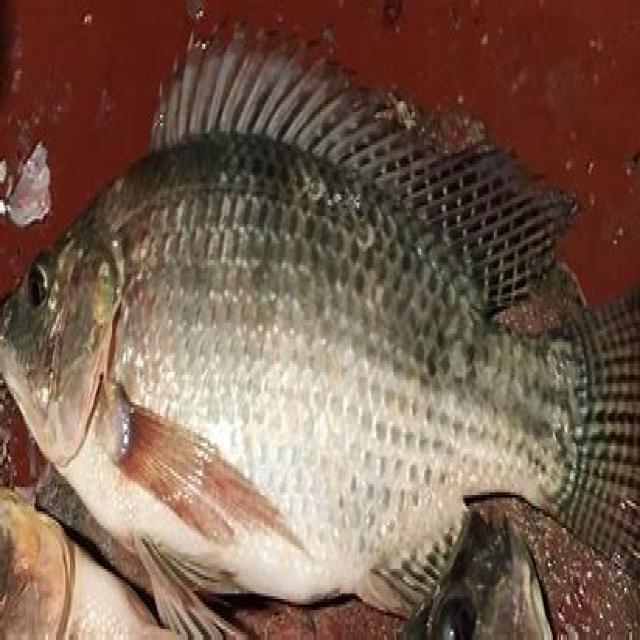Tilapia: (0, 28, 638, 637)
